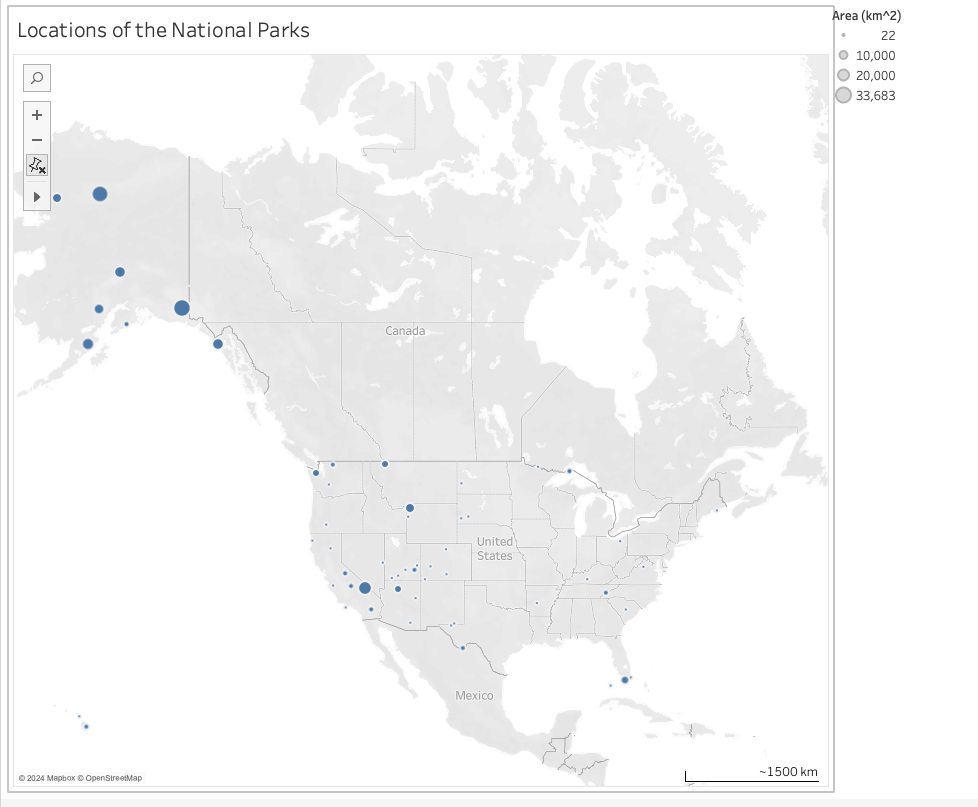

What the dashboard file says about the page in this screenshot:
{"tool":"tableau","page":{"name":"Dashboard 1","canvas":[1000,800],"ordinal":0},"visuals":[{"type":"worksheet","title":"us_parks_locations","mark":"Automatic","rows":["Latitude"],"cols":["Longitude"],"box":[8,8,824,784]},{"type":"legend","title":"us_parks_locations","param":"[federated.0cdlst71lt6bko19hse2d0mgkbwd].[sum:Calculation_2699907986871406592:qk","box":[831,8,162,237]}]}

Visuals, with their boxes in screenshot pixels (x1, y1, x2, y2):
"us_parks_locations" worksheet: [left=8, top=5, right=832, bottom=789]
"us_parks_locations" legend: [left=831, top=5, right=977, bottom=242]
